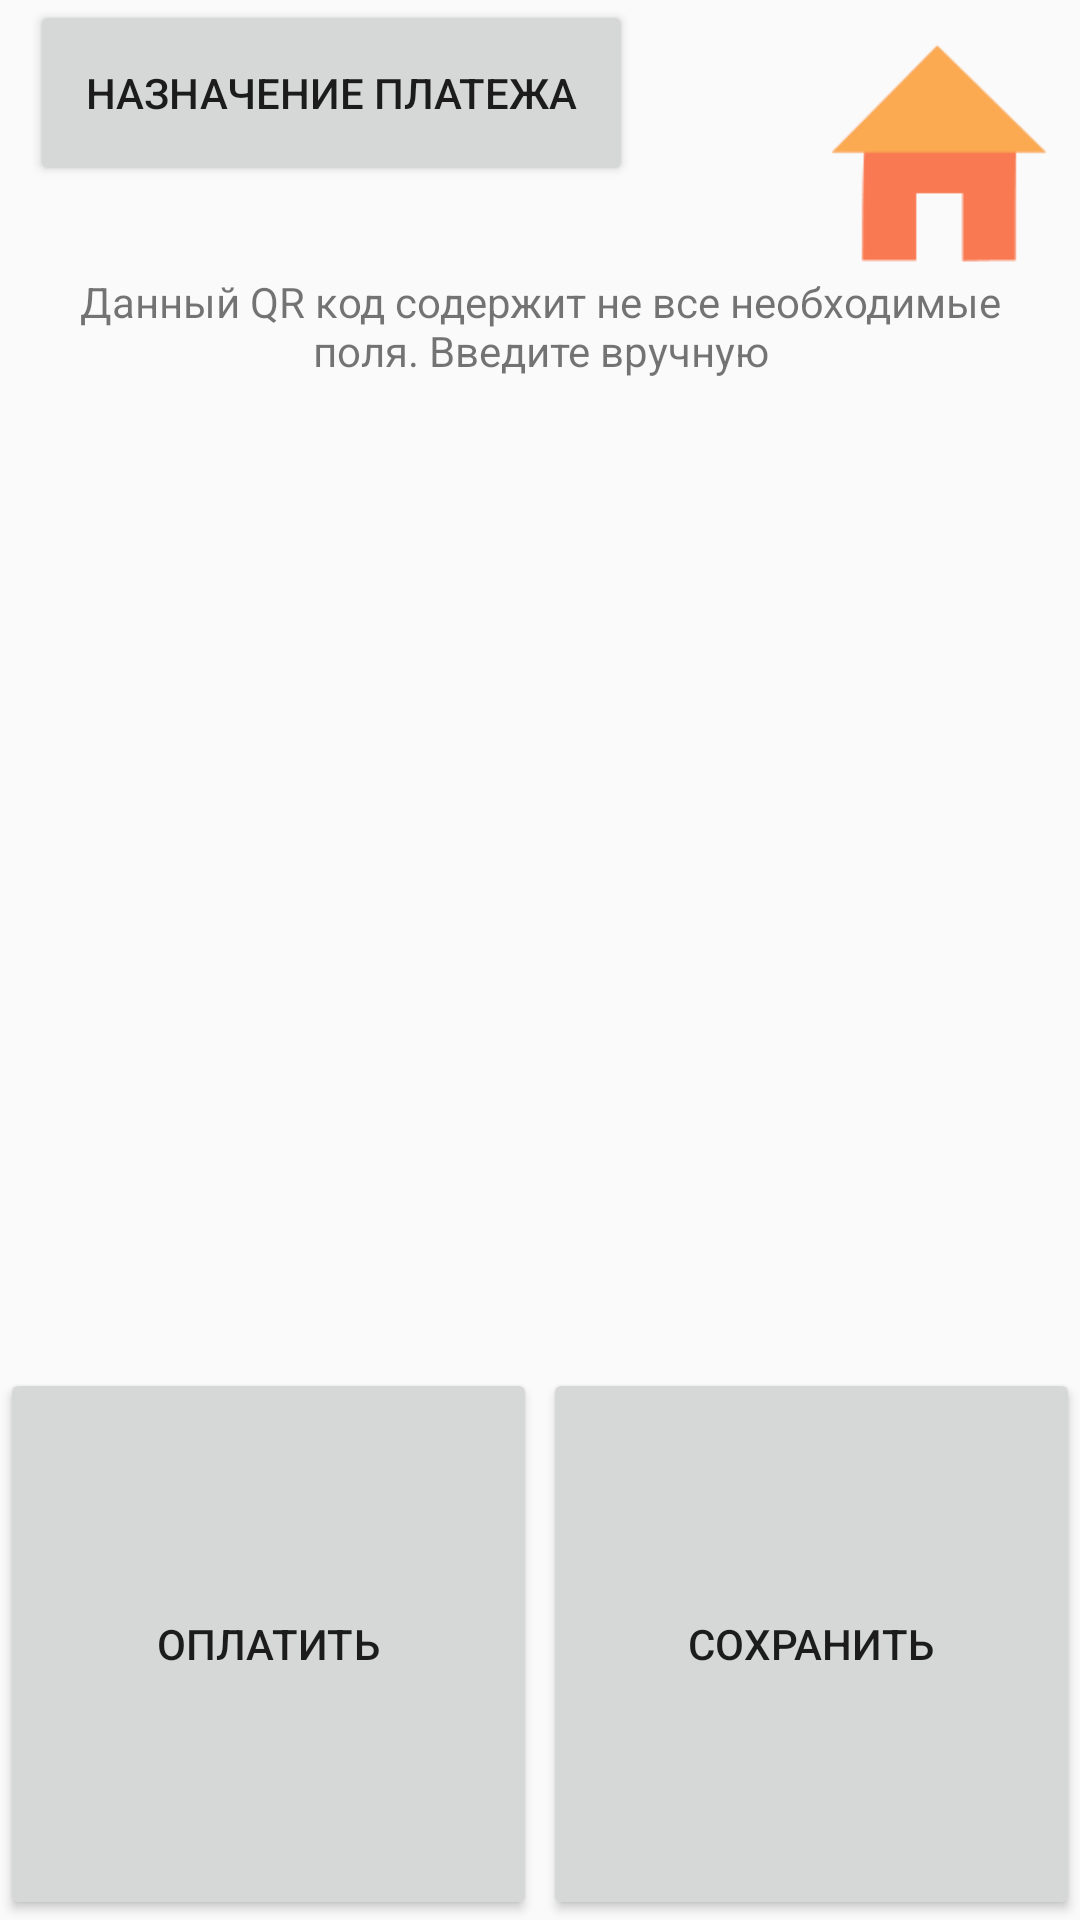

Screen size 1080 x 1920. Icon name, then its box in pixels as box(x1, y1, x2, y2):
house: box(832, 46, 1046, 262)
